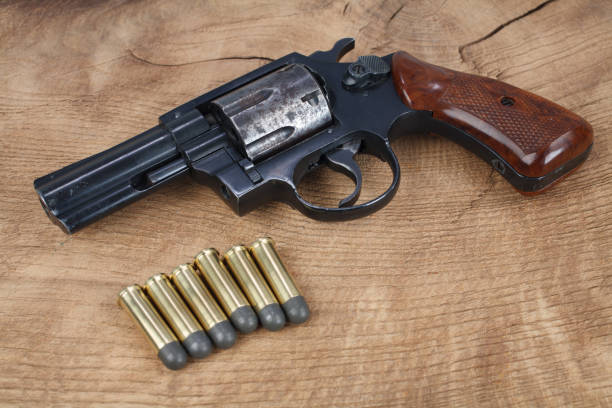gun: (31, 36, 595, 236)
